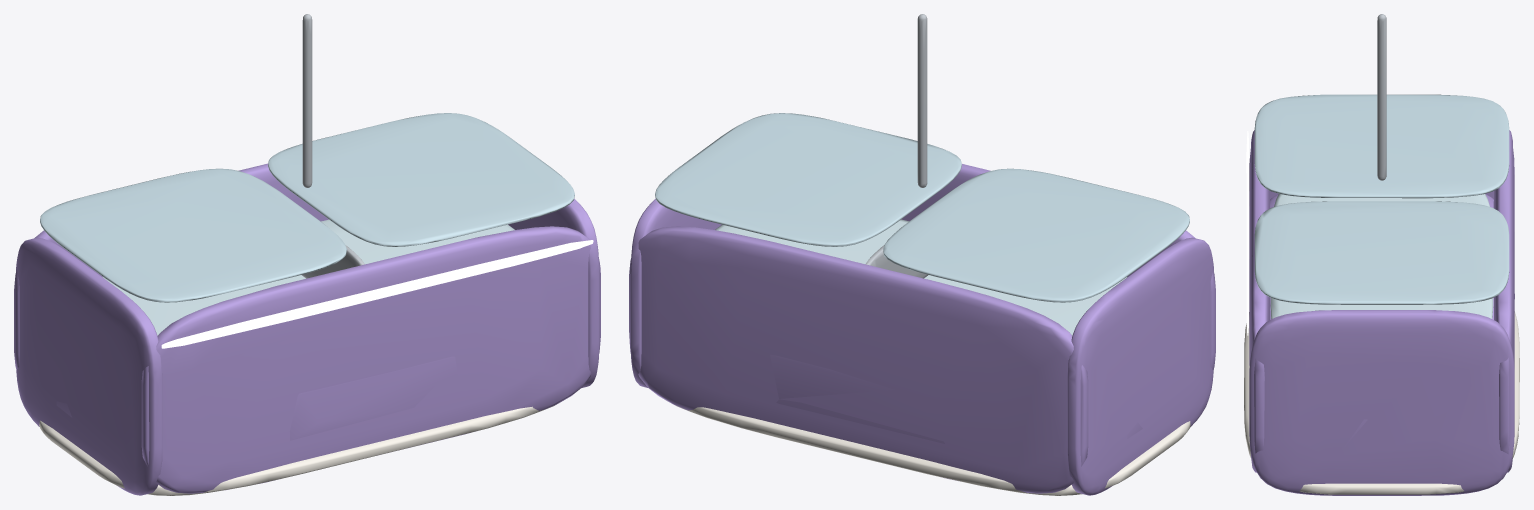
The model's file is vitrina_congelador_3.glb.
3 renders of one model, left to right at view 1: azimuth 30°, elevation 25°; view 2: azimuth 150°, elevation 25°; view 3: azimuth 270°, elevation 25°, orthographic. The views are drawn at different scales.
Visible parts, largest first — view 1: pared.002, tapa vidrio, tapa vidrio.001, pared, cuerpo bajo, zocalo, luz.001, hielo, pared.001, mástil, pared.003; view 2: pared.003, tapa vidrio, tapa vidrio.001, pared, zocalo, hielo, cuerpo bajo, pared.001, mástil, pared.002; view 3: pared.001, tapa vidrio.001, tapa vidrio, pared.003, zocalo, pared.002, hielo, mástil, luz.001, cuerpo bajo.
Boxes of the visible parts, <box> form: pared.002: <box>141,226,600,493</box>; tapa vidrio: <box>40,168,346,302</box>; tapa vidrio.001: <box>268,113,574,246</box>; pared: <box>16,237,162,495</box>; cuerpo bajo: <box>56,356,457,440</box>; zocalo: <box>39,404,556,495</box>; luz.001: <box>161,240,593,348</box>; hielo: <box>102,219,514,335</box>; pared.001: <box>508,199,599,387</box>; mástil: <box>302,14,312,187</box>; pared.003: <box>14,163,328,369</box>; pared.003: <box>629,226,1088,493</box>; tapa vidrio: <box>883,168,1189,302</box>; tapa vidrio.001: <box>655,113,961,246</box>; pared: <box>1067,237,1213,495</box>; zocalo: <box>664,399,1190,495</box>; hielo: <box>715,219,1127,335</box>; cuerpo bajo: <box>770,354,1142,443</box>; pared.001: <box>630,199,721,387</box>; mástil: <box>917,14,927,187</box>; pared.002: <box>901,164,1215,370</box>; pared.001: <box>1249,310,1514,495</box>; tapa vidrio.001: <box>1254,201,1509,304</box>; tapa vidrio: <box>1254,94,1509,198</box>; pared.003: <box>1493,130,1514,472</box>; zocalo: <box>1244,311,1519,494</box>; pared.002: <box>1249,130,1269,472</box>; hielo: <box>1270,194,1493,319</box>; mástil: <box>1377,14,1386,180</box>; luz.001: <box>1246,131,1249,335</box>; cuerpo bajo: <box>1249,194,1514,448</box>.
Size of the model in its own units: 1.94 by 1.57 by 1.04.
